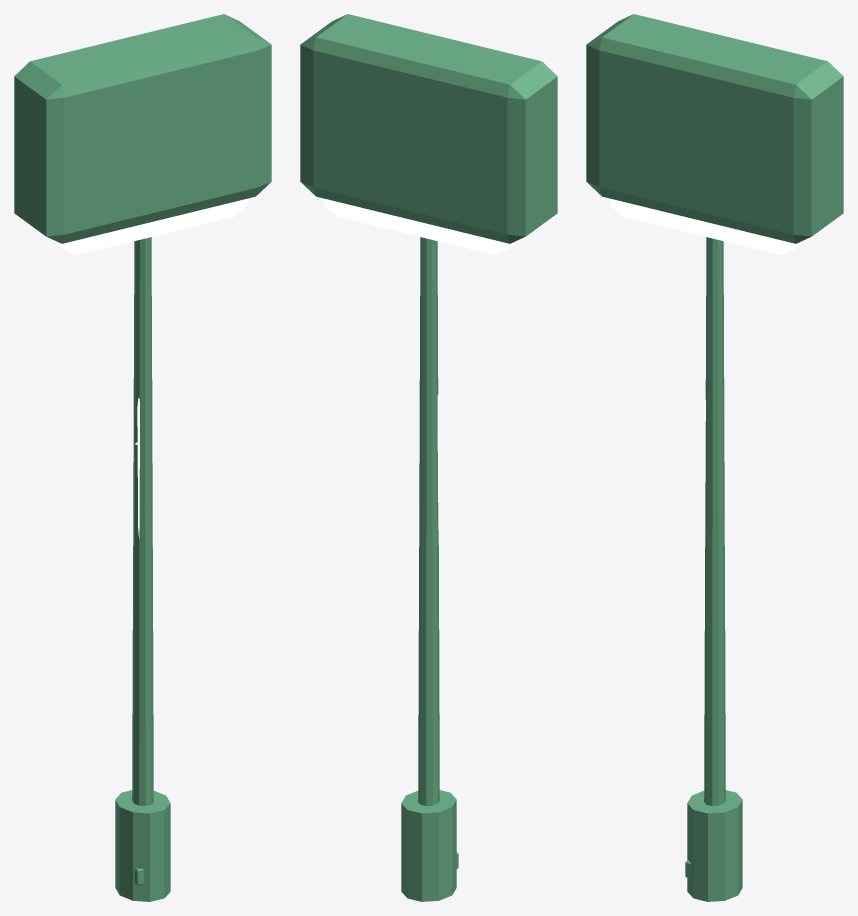
The model's file is b18_twin_shoebox_parking_lamp.glb.
3 renders of one model, left to right at view 1: azimuth 30°, elevation 25°; view 2: azimuth 150°, elevation 25°; view 3: azimuth 330°, elevation 25°, orthographic.
Visible parts, largest first — view 1: b18_twin_shoebox_parking_lamp; view 2: b18_twin_shoebox_parking_lamp; view 3: b18_twin_shoebox_parking_lamp.
Part boxes in pixels (x1,y1,x2,y2): b18_twin_shoebox_parking_lamp: (14, 14, 271, 901); b18_twin_shoebox_parking_lamp: (300, 14, 557, 901); b18_twin_shoebox_parking_lamp: (586, 14, 843, 901).
Bounding box in the file's own units: 2 × 7.12 × 0.57.
